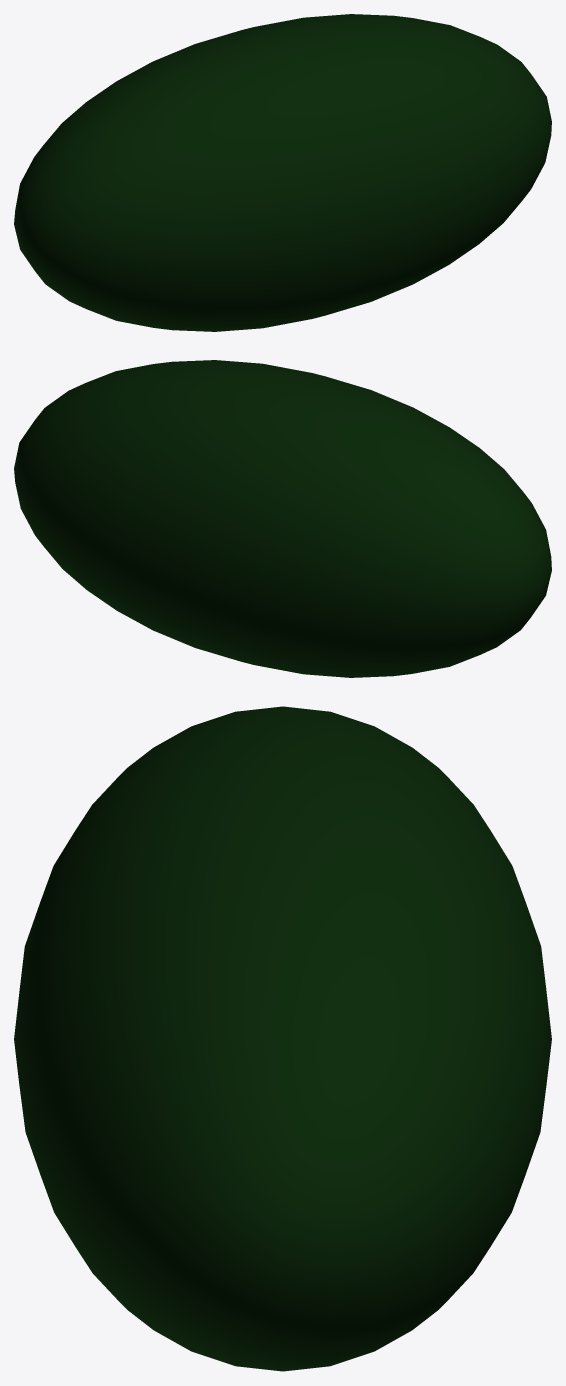
Rendered from PrototypeOilSpill.fbx.
3 views of the same model, one above another, from view 1: azimuth 30°, elevation 25°; view 2: azimuth 150°, elevation 25°; view 3: azimuth 270°, elevation 25° (orthographic). The views are drawn at different scales.
Visible parts, largest first — view 1: PrototypeOilSpill; view 2: PrototypeOilSpill; view 3: PrototypeOilSpill.
Part boxes in pixels (<box>): PrototypeOilSpill: <box>14,14,551,331</box>; PrototypeOilSpill: <box>14,360,551,677</box>; PrototypeOilSpill: <box>14,706,551,1371</box>.
Size of the model in its own units: 200 by 100 by 100.
